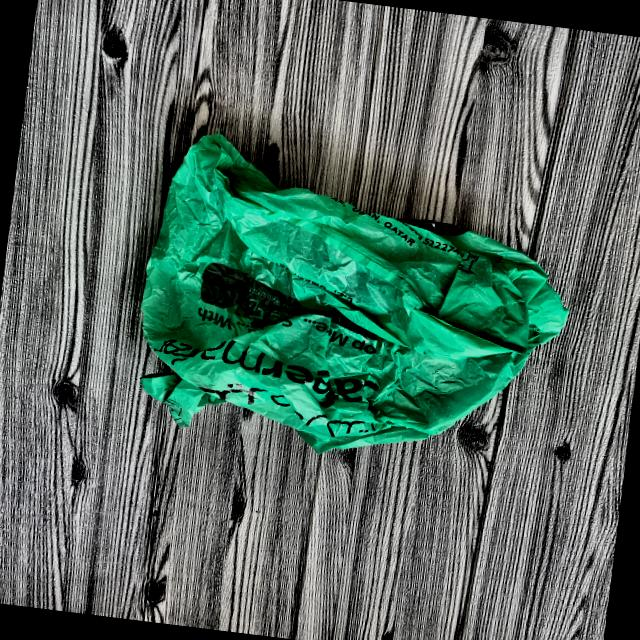plastic bag: (96, 112, 594, 495)
